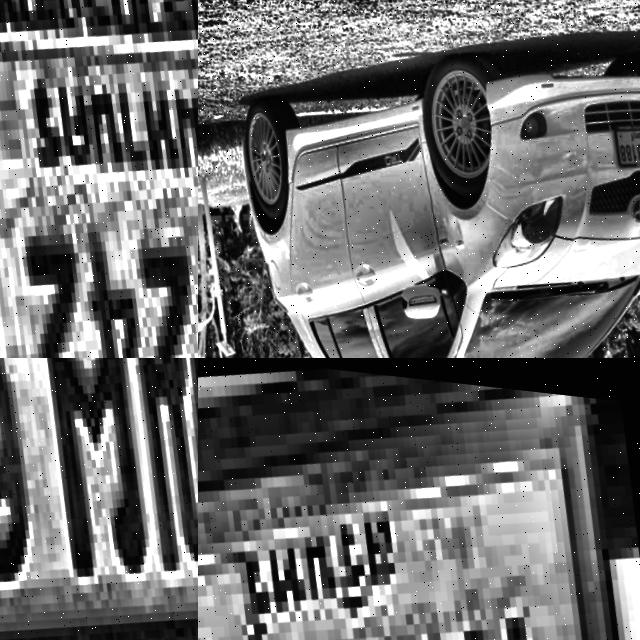license-plate: (198, 358, 640, 640), (0, 0, 198, 358), (0, 358, 198, 640), (606, 101, 640, 172)
